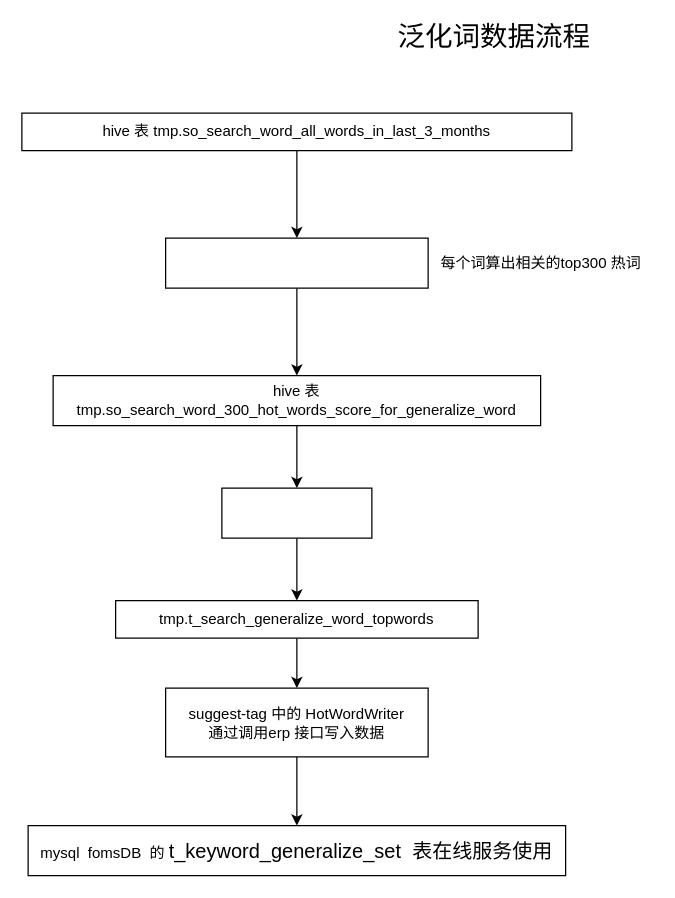
The diagram is 675 pixels wide and 898 high, and some of its shapes have lost their labels. The shapes that lost their labels are listed below. From the top down, each one's centre as x and y in pixels, then its label:
At pixel 296 262: "so-searchword-job 中的任务 Top300ScoreForGeneralizeWord".
At pixel 296 512: "每个词取分数靠前的15个top300 词".
